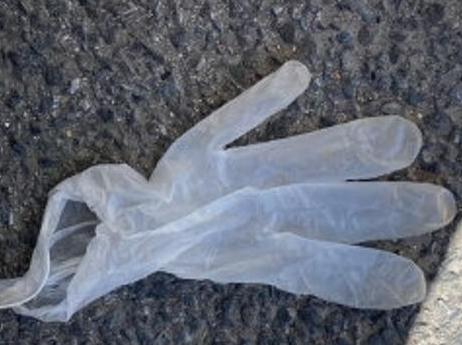gloves: (10, 64, 456, 345)
